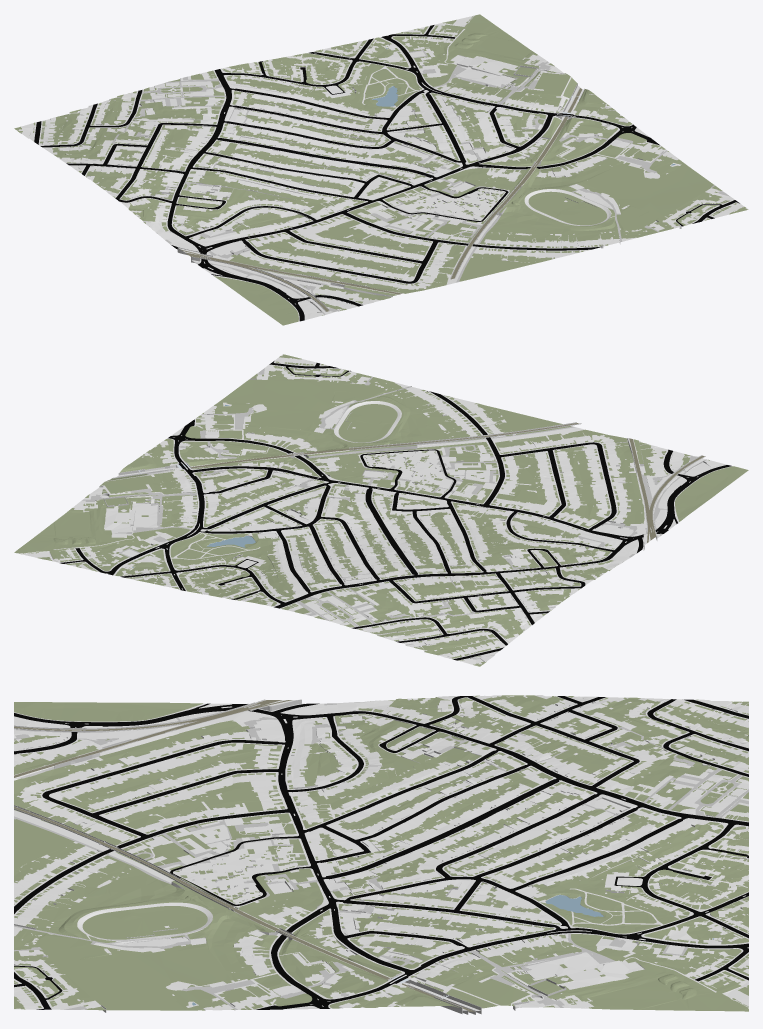
File: TQ3274_Terrain_LOD_1_draco.glb
3 renders of one model, top to bottom at view 1: azimuth 30°, elevation 25°; view 2: azimuth 150°, elevation 25°; view 3: azimuth 270°, elevation 25°, orthographic. The views are drawn at different scales.
Visible parts, largest first — view 1: TQ3274_Terrain; view 2: TQ3274_Terrain; view 3: TQ3274_Terrain.
Part boxes in pixels (bbox=[...]): TQ3274_Terrain: bbox=[14, 14, 748, 325]; TQ3274_Terrain: bbox=[14, 354, 748, 666]; TQ3274_Terrain: bbox=[14, 695, 748, 1014].
Size of the model in its own units: 1000 by 29.42 by 1000.
1 material, 1 textured.
